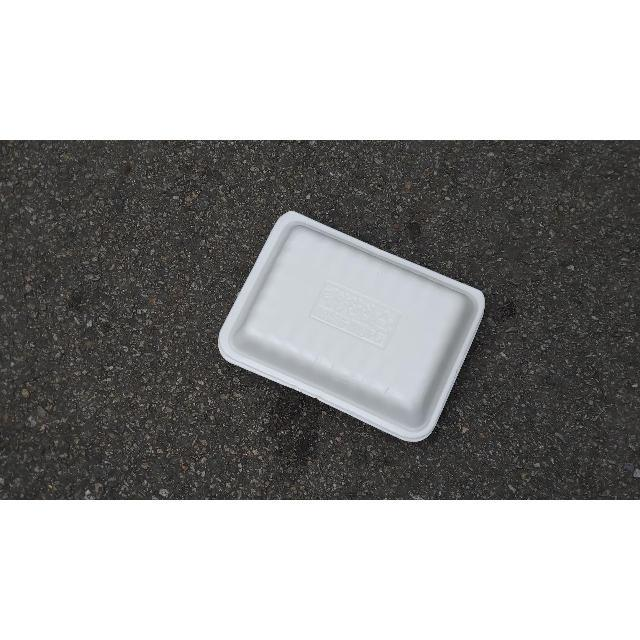Recipiente plastico: (221, 211, 485, 441)
